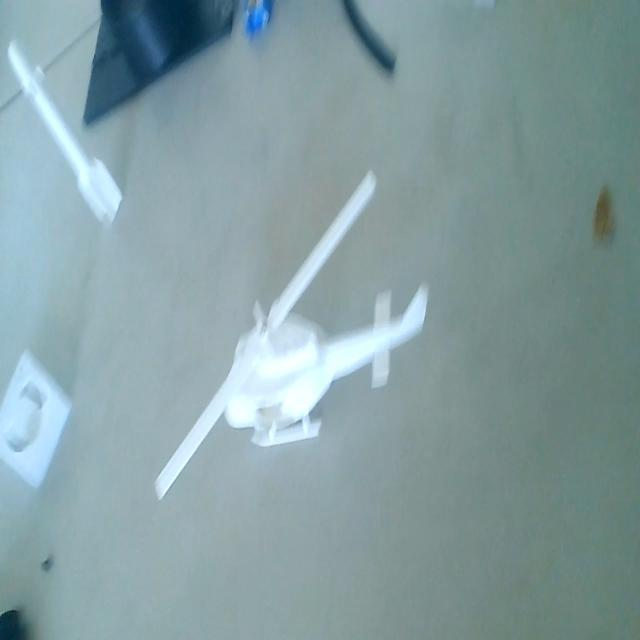Helicopter: (153, 166, 433, 505)
Rocket: (7, 35, 123, 233)
